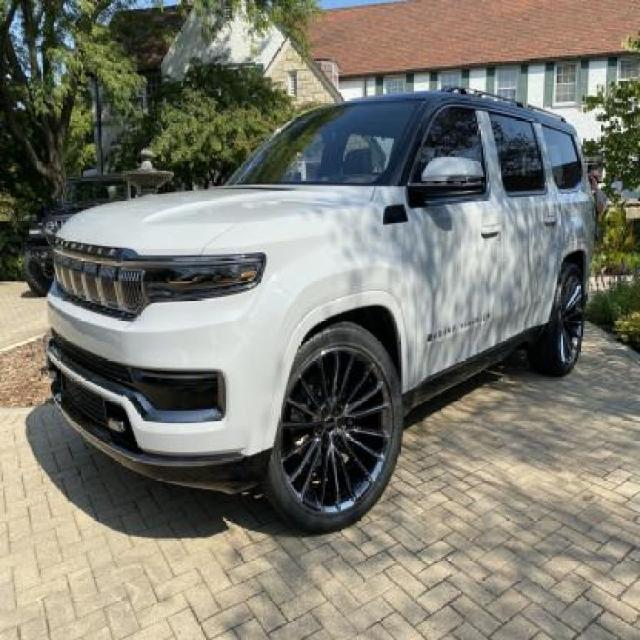Jeep: (42, 90, 598, 540)
